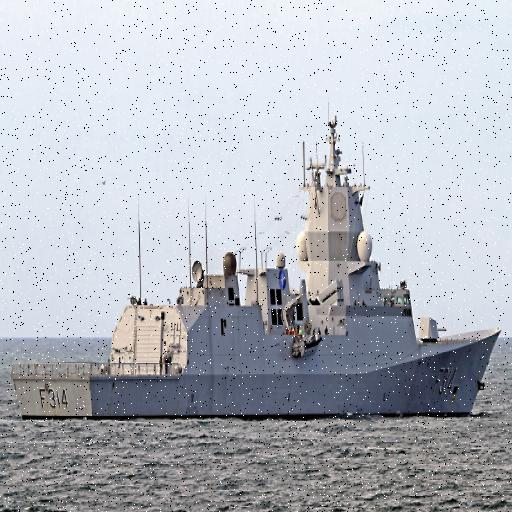Fragata: (8, 111, 505, 430)
